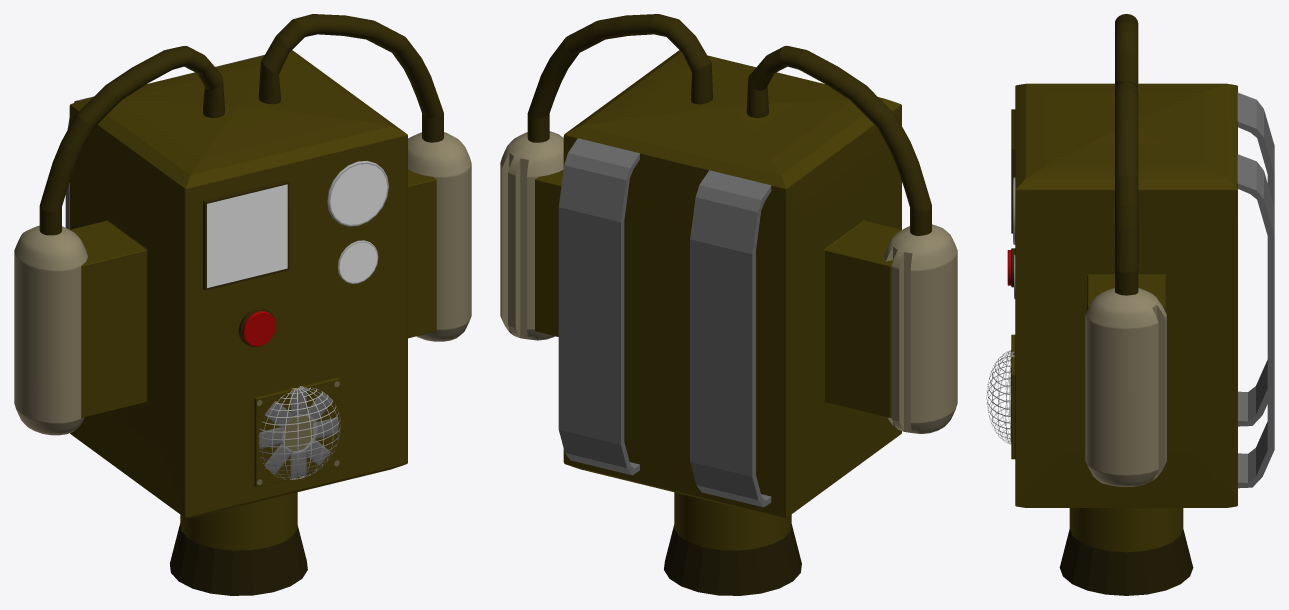
File: jetpack joyride.fbx
The picture shows the model from 3 angles, left to right: view 1: azimuth 30°, elevation 25°; view 2: azimuth 150°, elevation 25°; view 3: azimuth 270°, elevation 25°; orthographic projection. The views are drawn at different scales.
Visible parts, largest first — view 1: pCube1, pCylinder7, pPipe1, pCylinder2, pCube7, pCylinder4, pCylinder5, pCube2, pCylinder13, pSphere1, pCylinder15, pCylinder14 (+1 smaller); view 2: pCube1, pCube8, pCube9, pCylinder7, pPipe1, pCylinder2, pCylinder4, pCylinder5; view 3: pCube1, pCylinder2, pPipe1, pCylinder5, pCube8, pCube9, pCylinder4, pSphere1, pCube2, pCube7.
Part boxes in pixels (x1,y1,x2,y2): pCube1: (69,50,436,518); pCylinder7: (14,225,87,435); pPipe1: (170,492,307,595); pCylinder2: (408,132,471,341); pCube7: (203,180,289,290); pCylinder4: (39,46,224,235); pCylinder5: (258,14,443,142); pCube2: (254,377,340,487); pCylinder13: (327,161,388,226); pSphere1: (258,386,340,479); pCylinder15: (337,240,378,283); pCylinder14: (238,307,275,346); pCube1: (535,50,901,518); pCube8: (558,138,639,475); pCube9: (690,170,771,507); pCylinder7: (884,224,957,433); pPipe1: (664,492,801,595); pCylinder2: (500,131,563,340); pCylinder4: (746,45,931,235); pCylinder5: (527,14,712,142); pCube1: (1015,83,1237,507); pCylinder2: (1085,288,1166,486); pPipe1: (1059,508,1193,595); pCylinder5: (1115,82,1138,295); pCube8: (1237,154,1274,488); pCube9: (1237,92,1274,426); pCylinder4: (1115,14,1138,89); pSphere1: (986,350,1014,444); pCube2: (1011,334,1015,459); pCube7: (1011,109,1015,233).
Size of the model in its own units: 5.25 by 6.02 by 3.06.
